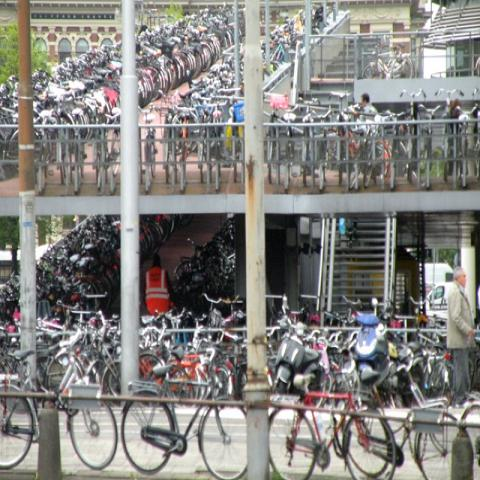car: (428, 281, 452, 320)
motorcycle: (272, 294, 327, 395), (344, 297, 394, 395), (279, 9, 305, 36)
